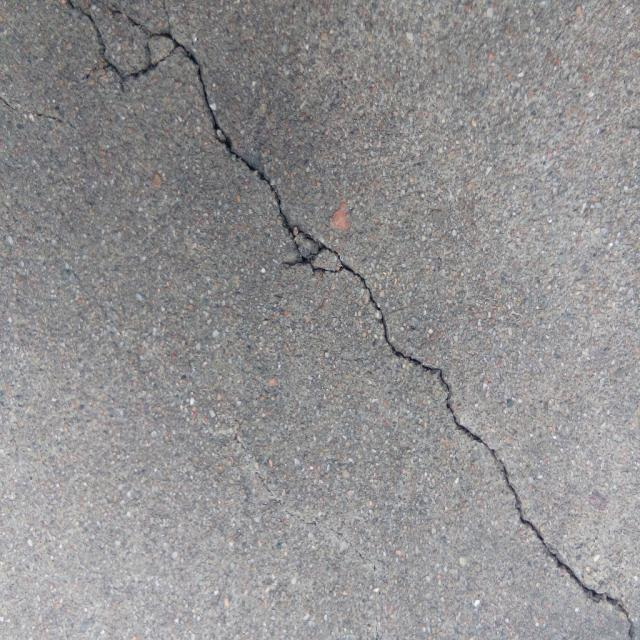cracks: (38, 0, 629, 622)
